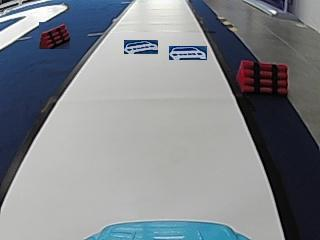bomb: (238, 60, 290, 93)
